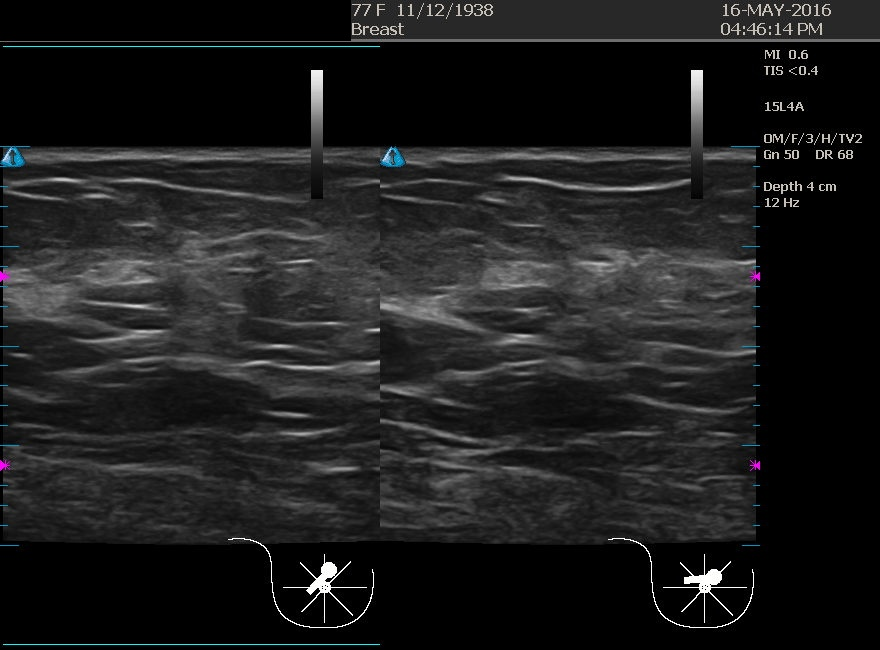BIRADS_3: (33, 208, 233, 408), (383, 273, 583, 473)
